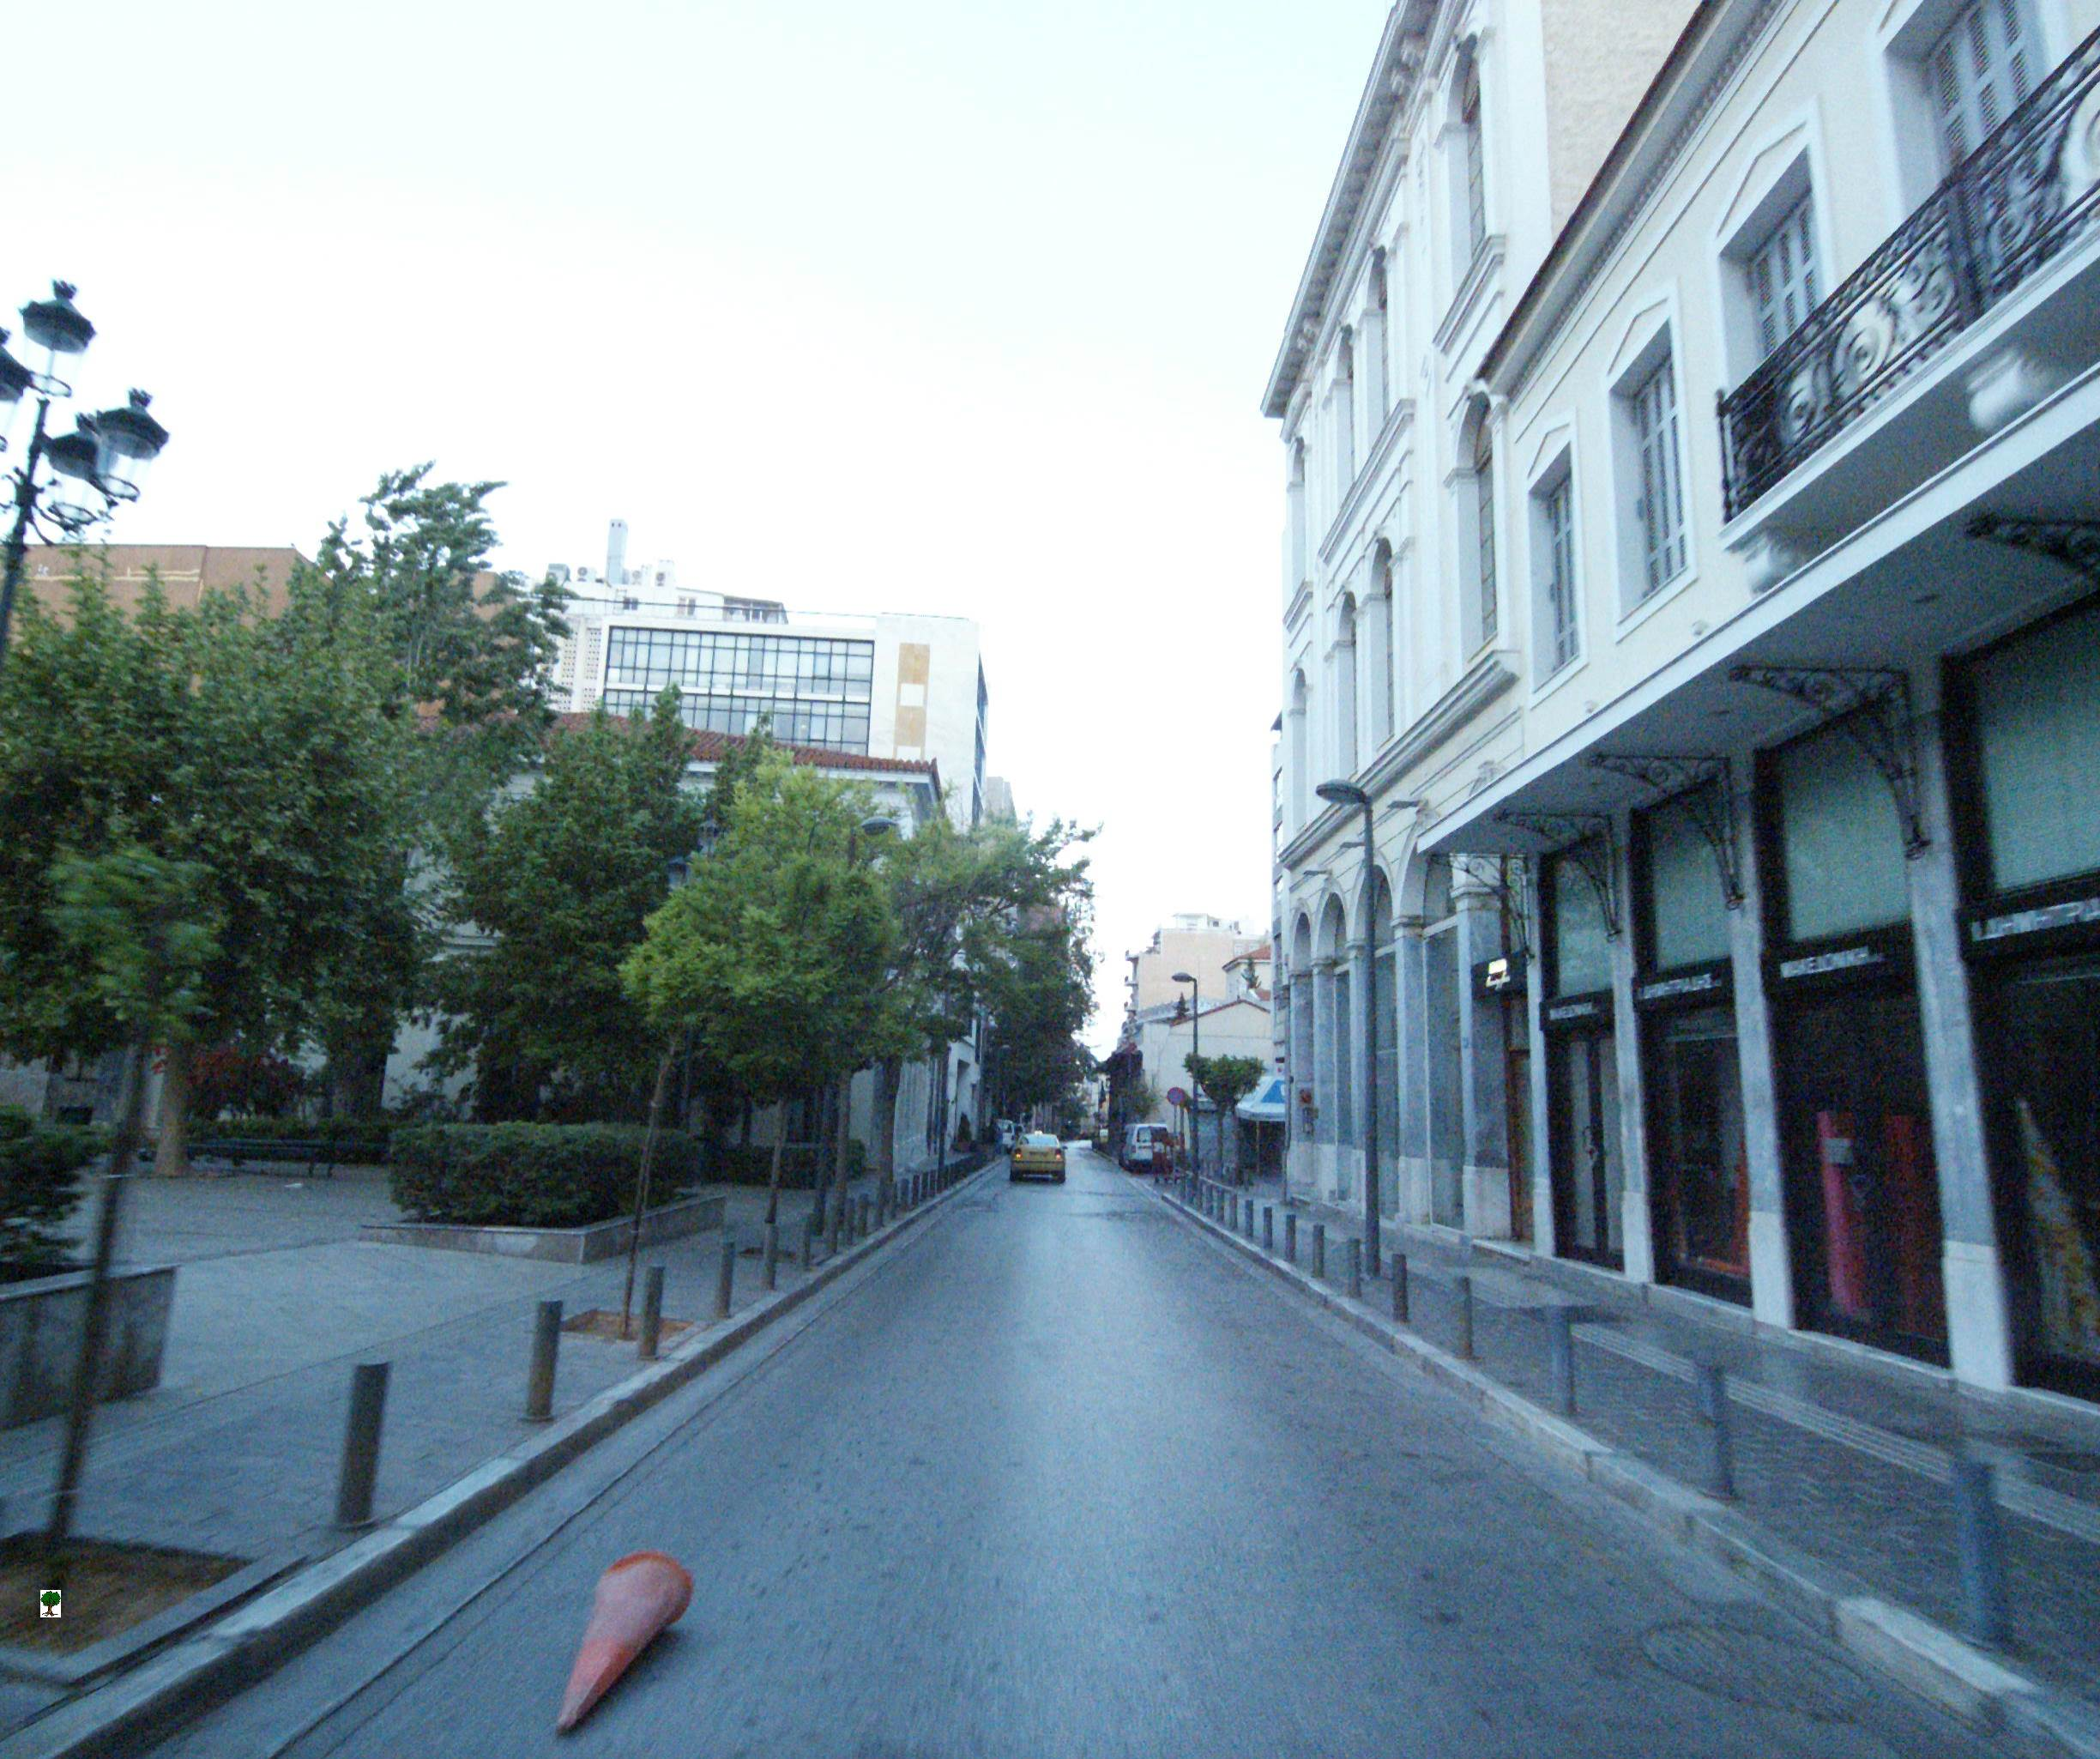tree: (0, 517, 373, 1687)
